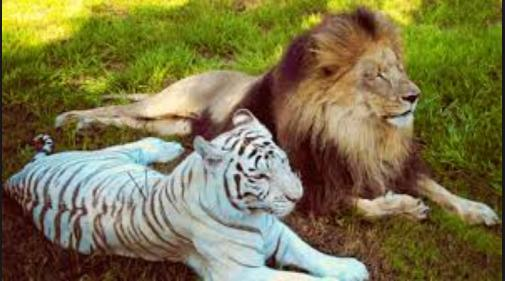lion: (105, 11, 496, 183)
tiger: (5, 114, 367, 277)
